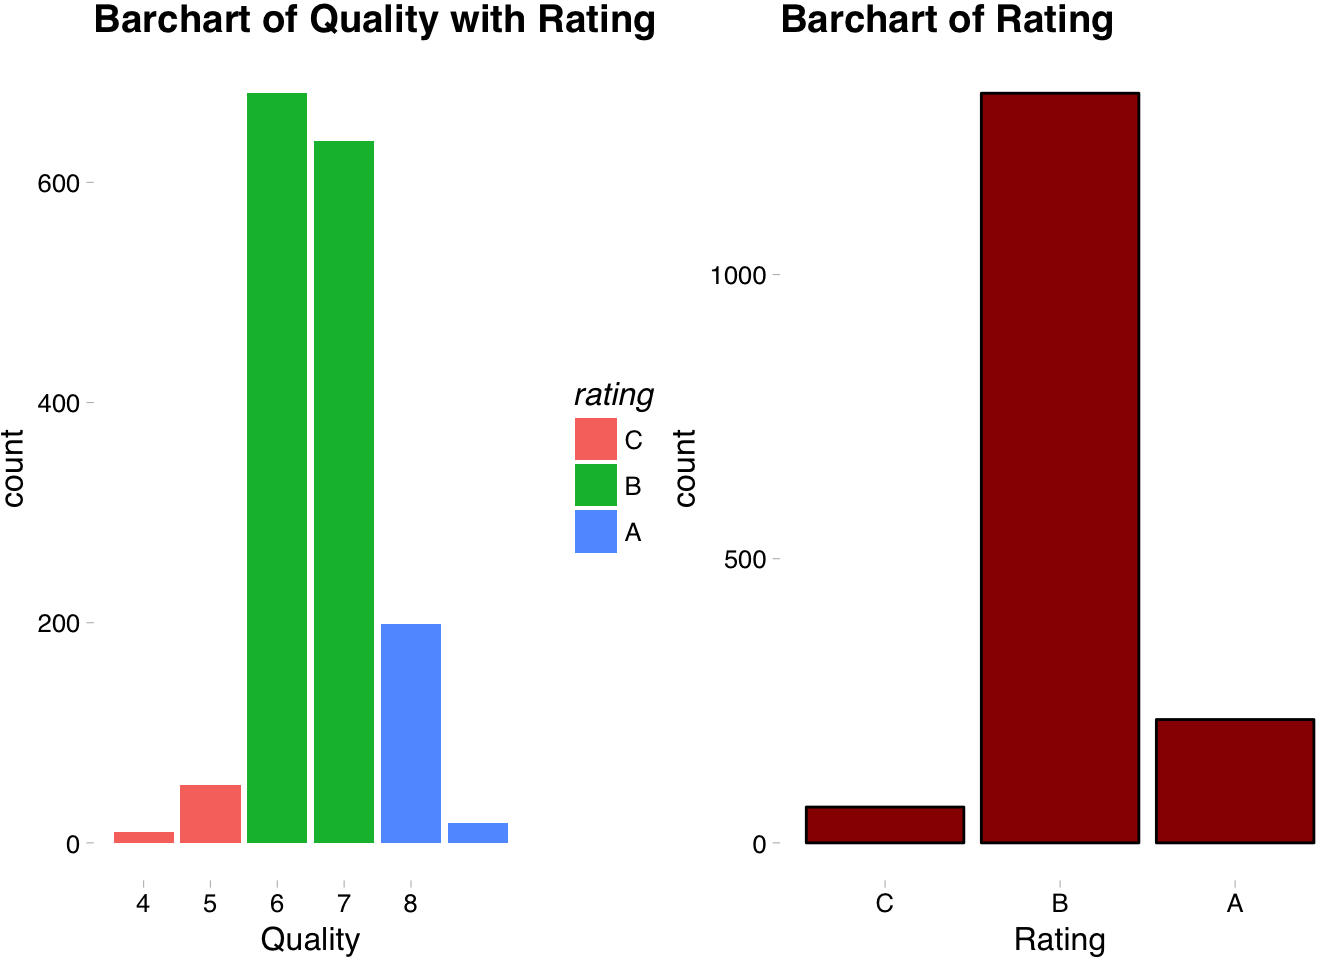

The page's visual inventory and layout, read from the dashboard file:
{"tool":"tableau","page":{"name":"Dashboard 1","canvas":[1000,800],"ordinal":0},"visuals":[{"type":"worksheet","title":"Sheet 1","mark":"Bar","rows":["Number of Records"],"cols":["Date"],"box":[8,8,792.9,392]},{"type":"legend","title":"Sheet 1","param":"[federated.0hw1b5w1bimaj911j3dq0028rvwf].[none:Test Outcome:nk]","box":[800.9,8,191.1,784]},{"type":"worksheet","title":"Sheet 2","mark":"Automatic","rows":["Number of Records"],"cols":["Missile Type"],"box":[8,400,792.9,392]}]}

Visuals, with their boxes on the page's 1000x800 design canvas (x1, y1, x2, y2). These are canvas units, not pixel positions in the 1344x960 screenshot, which may show the page scaled, cropped or inside an application window:
"Sheet 1" worksheet (Bar marks): Rect(8, 8, 801, 400)
"Sheet 1" legend: Rect(801, 8, 992, 792)
"Sheet 2" worksheet: Rect(8, 400, 801, 792)
